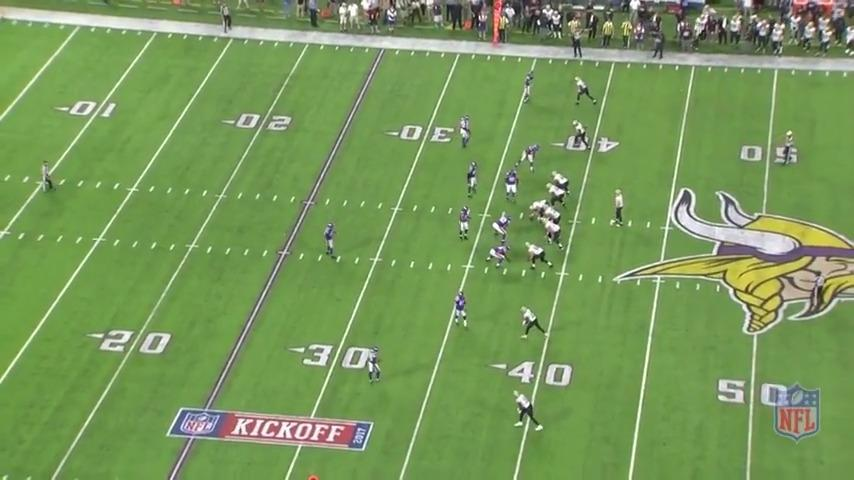player: (511, 391, 545, 435), (517, 304, 549, 342), (450, 290, 473, 332), (524, 242, 553, 273), (571, 75, 598, 108), (486, 242, 514, 273), (569, 119, 591, 158), (515, 141, 541, 173), (544, 216, 567, 252), (490, 211, 513, 247), (366, 346, 384, 387), (324, 220, 341, 263), (504, 165, 522, 204), (611, 187, 627, 229), (457, 203, 474, 242), (525, 198, 549, 225), (547, 180, 568, 210), (521, 69, 538, 106), (551, 169, 571, 200), (466, 160, 481, 200), (458, 115, 473, 152), (543, 202, 563, 224)
ref: (37, 158, 55, 194), (782, 127, 796, 170), (649, 28, 667, 61), (221, 2, 236, 37), (570, 26, 585, 61)
